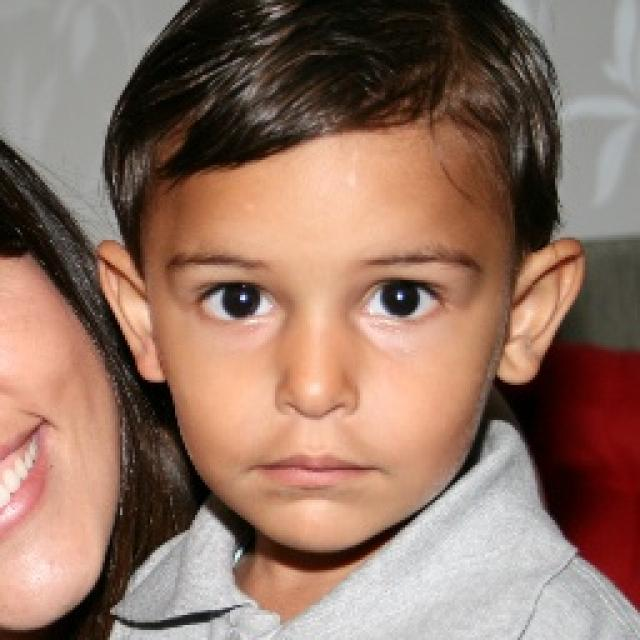earlobe: (498, 346, 538, 385), (132, 356, 167, 382)
eye: (364, 279, 447, 321), (198, 284, 277, 324)
nose: (282, 406, 353, 450)
wholeear: (496, 238, 584, 386), (99, 246, 164, 384)
